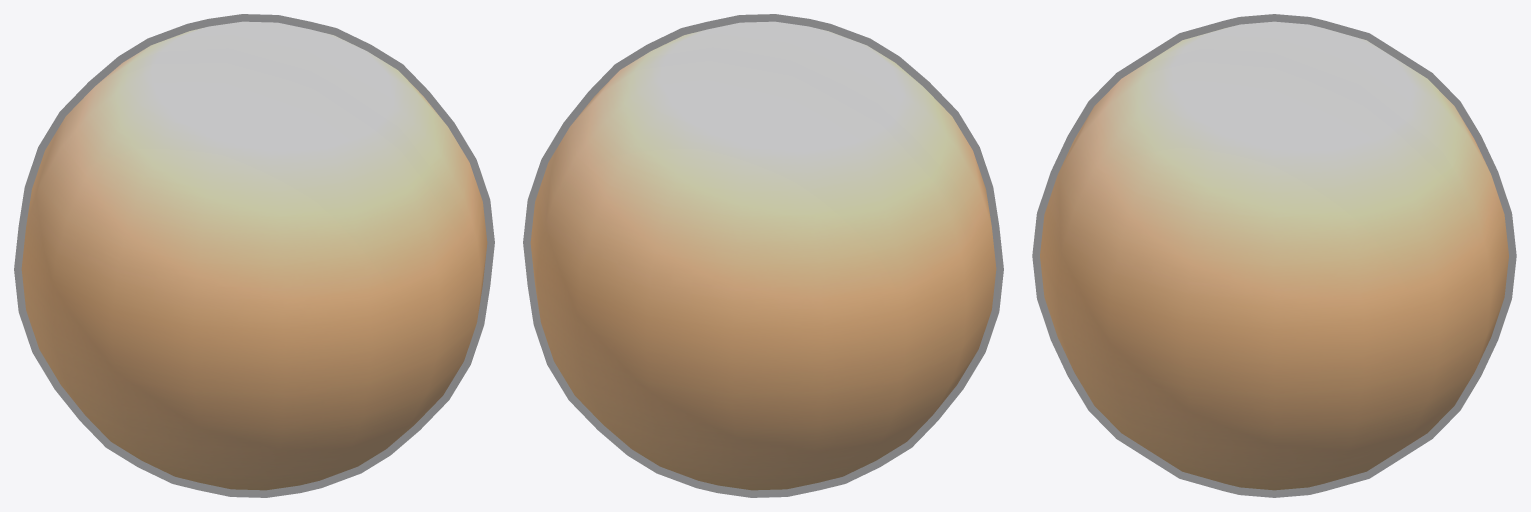
Rendered from entity34156.gltf.
The picture shows the model from 3 angles, left to right: view 1: azimuth 30°, elevation 25°; view 2: azimuth 150°, elevation 25°; view 3: azimuth 270°, elevation 25°; orthographic projection.
Visible parts, largest first — view 1: node_Sphere01_Art (60); view 2: node_Sphere01_Art (60); view 3: node_Sphere01_Art (60).
Part boxes in pixels (x1,y1,x2,y2): node_Sphere01_Art (60): [14, 14, 494, 497]; node_Sphere01_Art (60): [523, 14, 1003, 497]; node_Sphere01_Art (60): [1032, 14, 1516, 497].
Bounding box in the file's own units: 2.07 × 2.07 × 2.07.
2 materials, 1 textured.
